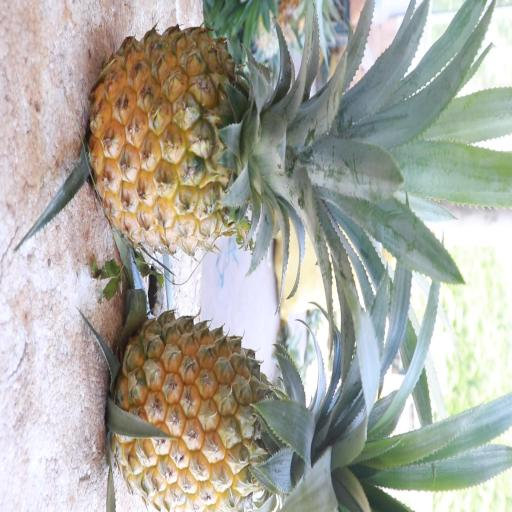Pineapple - v8 v1: (84, 16, 322, 262), (105, 306, 350, 512)
